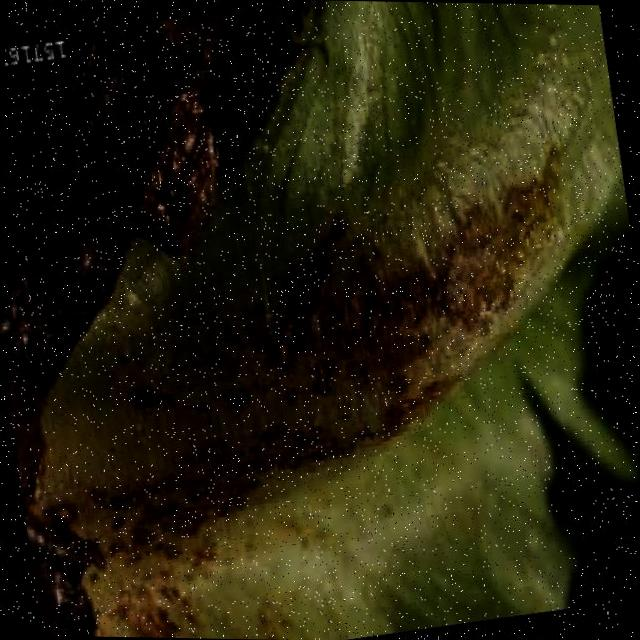Septoria_Blight_on_lettuce: (0, 0, 617, 572)
